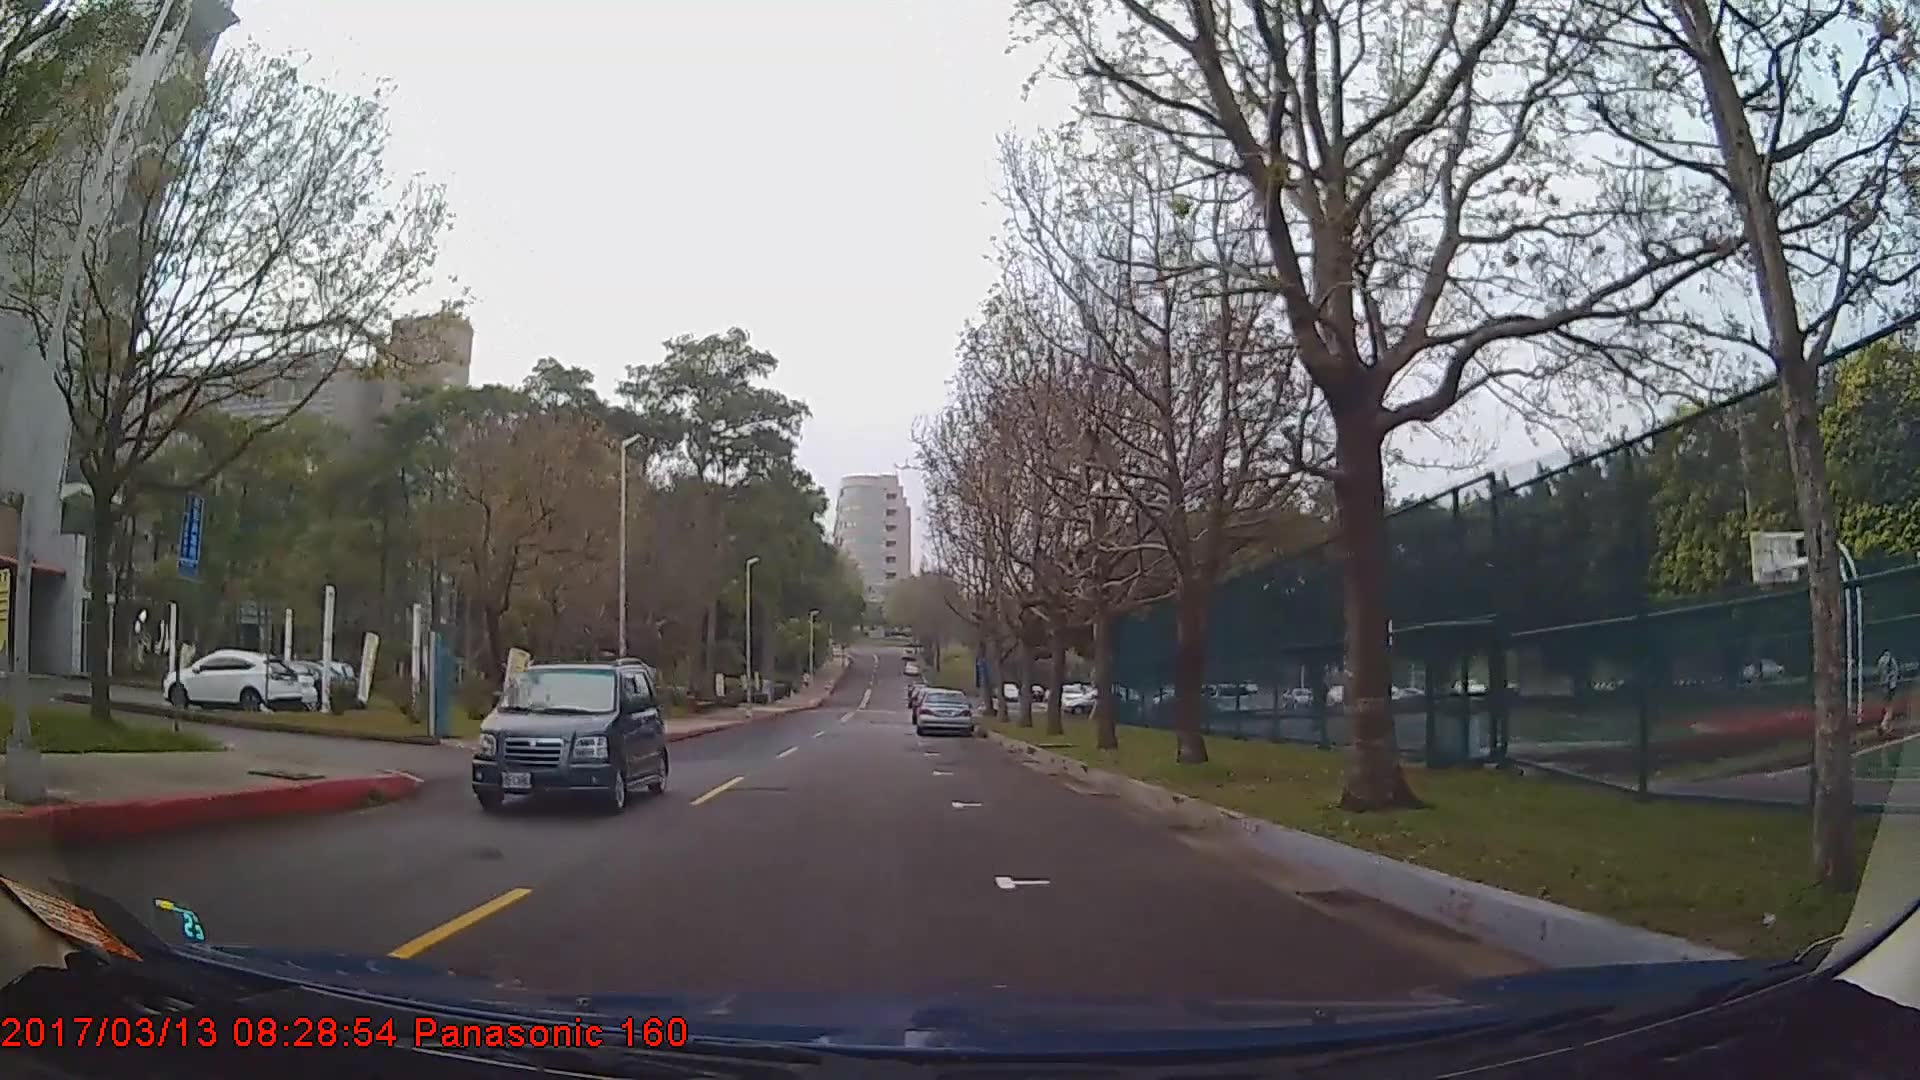vehicle: (468, 659, 667, 818), (164, 647, 301, 713), (914, 686, 973, 736)
